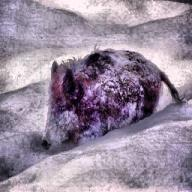boar: (40, 47, 182, 153)
